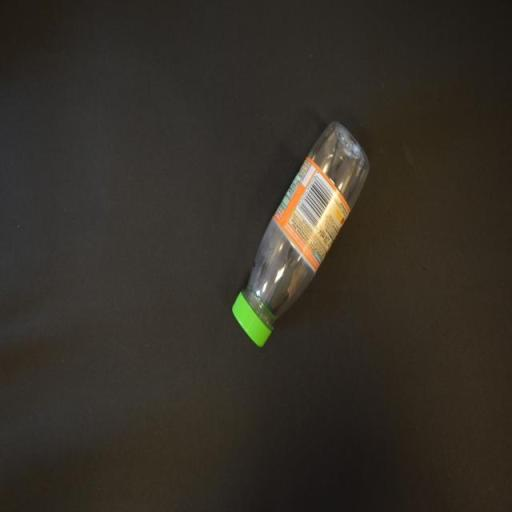plastic: (232, 118, 372, 348)
